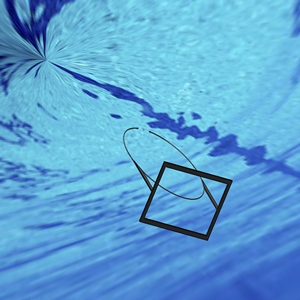circle: (121, 124, 234, 241)
